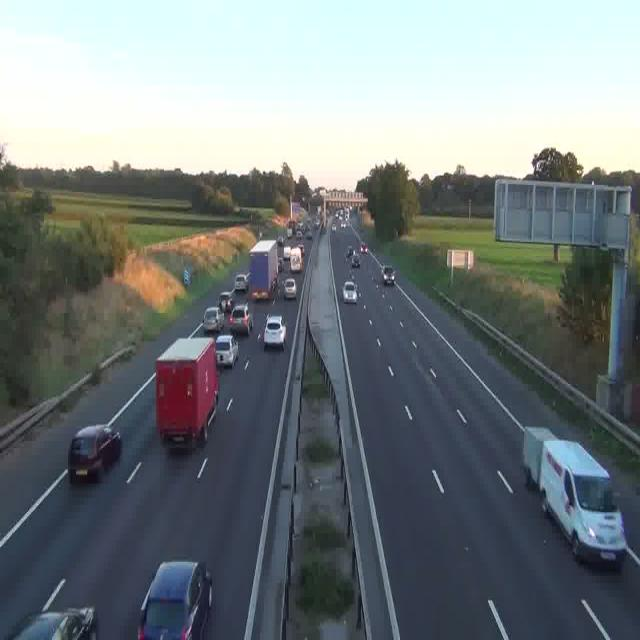car: (524, 428, 626, 566), (139, 560, 212, 639), (68, 425, 122, 482), (10, 607, 96, 640), (215, 333, 238, 368), (264, 317, 286, 348), (230, 308, 250, 335), (203, 306, 222, 333), (217, 292, 233, 318), (282, 278, 296, 302), (343, 281, 358, 302), (381, 265, 396, 286), (234, 273, 247, 292), (348, 250, 358, 268), (304, 229, 312, 242)
truck: (155, 337, 219, 448), (250, 239, 278, 298), (287, 244, 303, 270), (279, 242, 290, 261)
